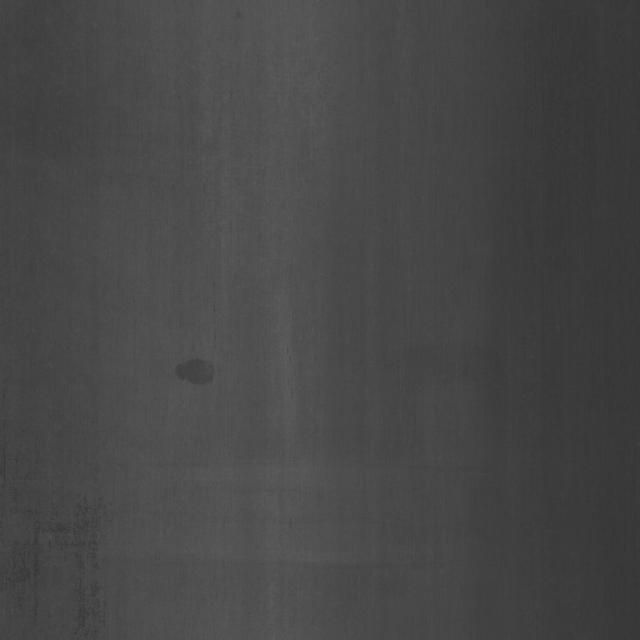welding_line: (175, 343, 226, 394)
